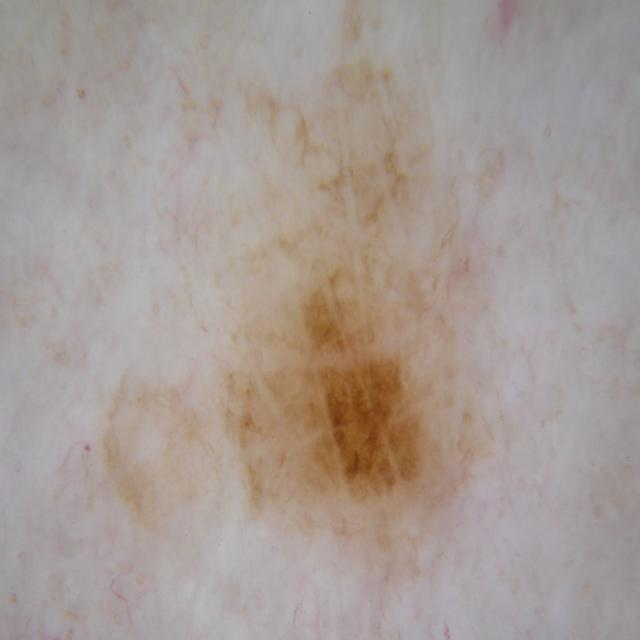Melanoma: (177, 167, 507, 581)
